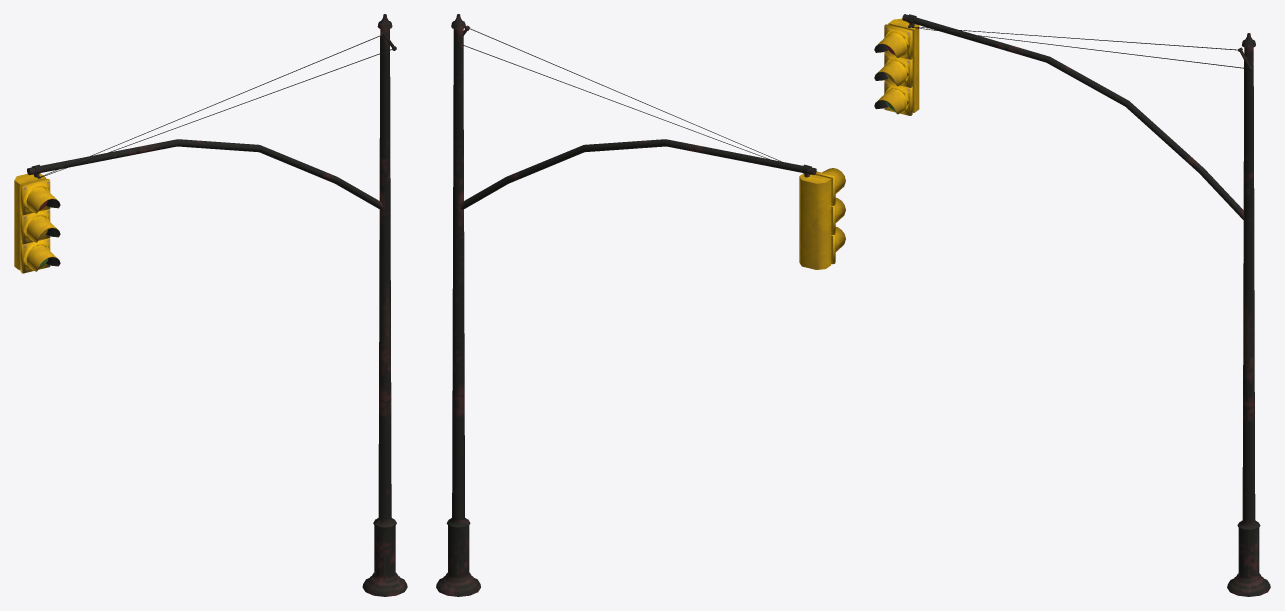
File: o3_semaforo_braccio.glb
3 renders of one model, left to right at view 1: azimuth 30°, elevation 25°; view 2: azimuth 150°, elevation 25°; view 3: azimuth 330°, elevation 25°, orthographic. The views are drawn at different scales.
Parts seen in each view (by area): view 1: sb_modello; view 2: sb_modello; view 3: sb_modello.
Boxes of the visible parts, left/top/right/bottom form: sb_modello: left=14, top=14, right=407, bottom=596; sb_modello: left=436, top=14, right=845, bottom=596; sb_modello: left=874, top=14, right=1270, bottom=596.
Bounding box in the file's own units: 3.95 × 5.55 × 0.5672.
1 material, 1 textured.
